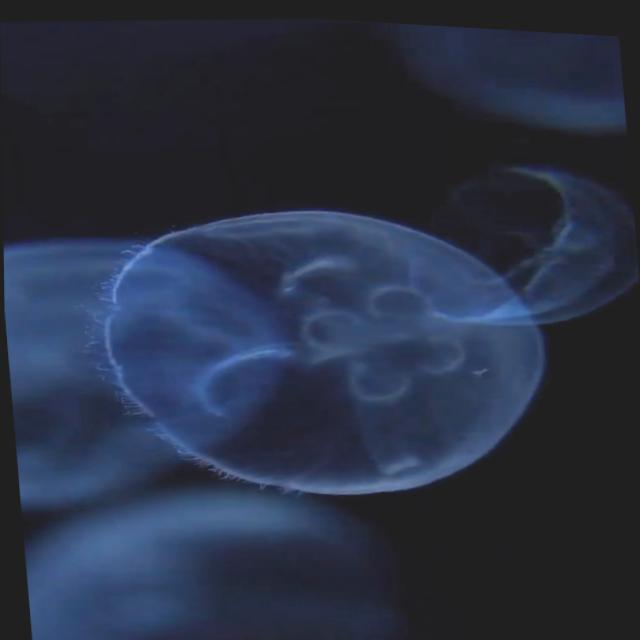Moon-jellyfish: (102, 163, 637, 489)
